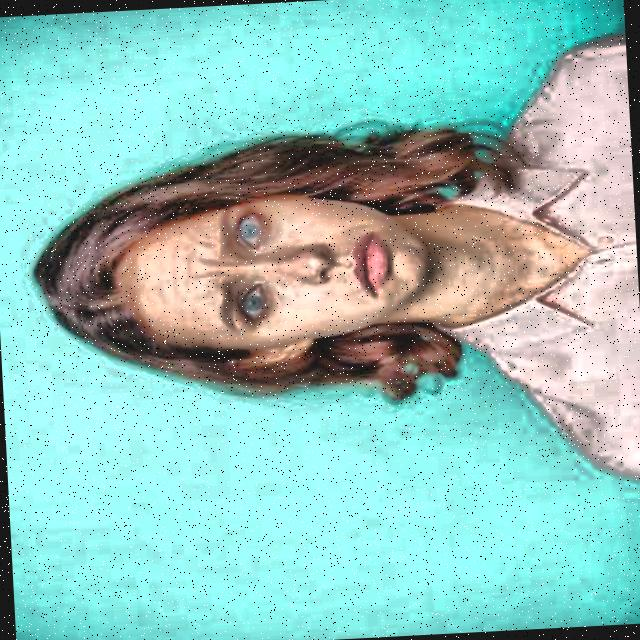sad: (3, 110, 475, 417)
